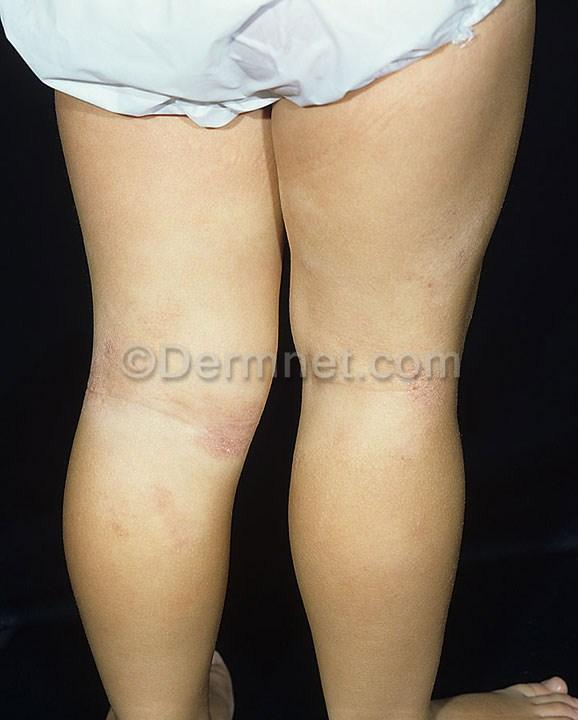xerosis 1: (436, 444, 468, 644), (84, 335, 132, 407), (192, 428, 260, 459), (413, 367, 443, 418)
